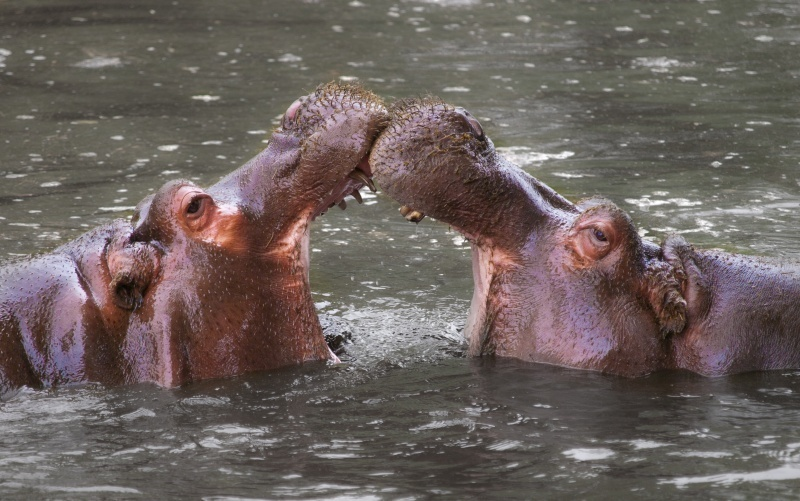hipopotamo: (2, 65, 398, 423), (359, 87, 800, 404)
